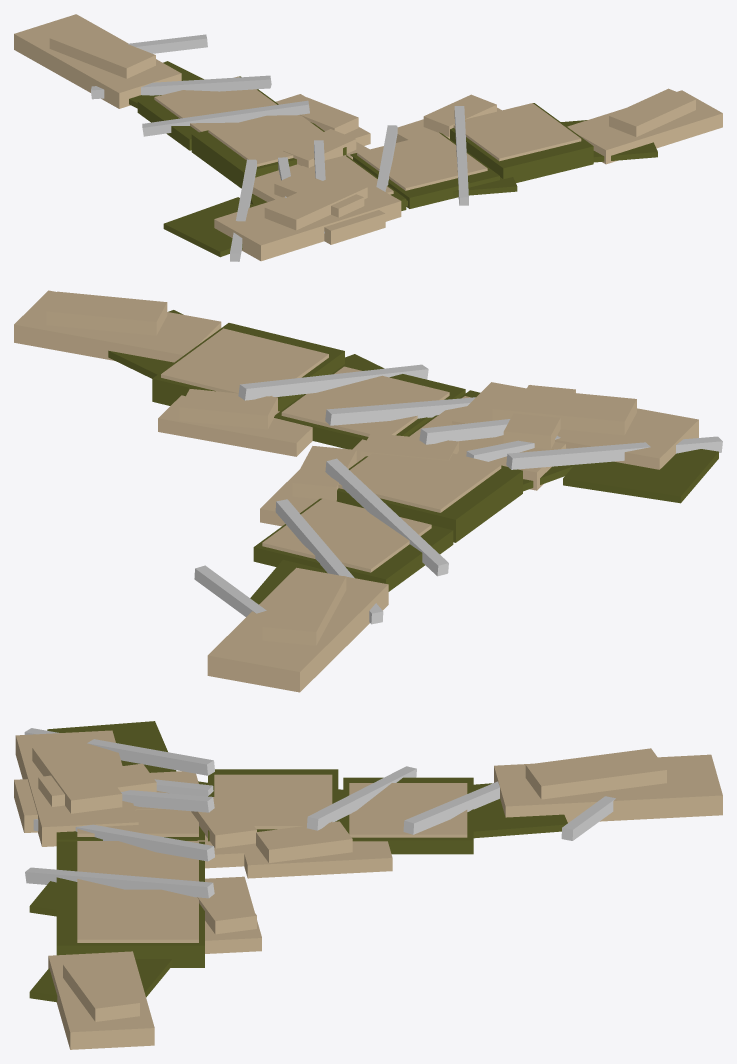
File: SM_HescoEsquina_v1_Geotextil_e3_Brecha_LOD1.fbx
3 renders of one model, top to bottom at view 1: azimuth 30°, elevation 25°; view 2: azimuth 150°, elevation 25°; view 3: azimuth 270°, elevation 25°, orthographic. The views are drawn at different scales.
Parts seen in each view (by area): view 1: SM_hesco_piezas_v7_LOD1; view 2: SM_hesco_piezas_v7_LOD1; view 3: SM_hesco_piezas_v7_LOD1.
Boxes of the visible parts, left/top/right/bottom form: SM_hesco_piezas_v7_LOD1: left=14, top=14, right=722, bottom=261; SM_hesco_piezas_v7_LOD1: left=14, top=290, right=722, bottom=692; SM_hesco_piezas_v7_LOD1: left=14, top=721, right=722, bottom=1049.
Size of the model in its own units: 6.23 by 0.351 by 5.83.
